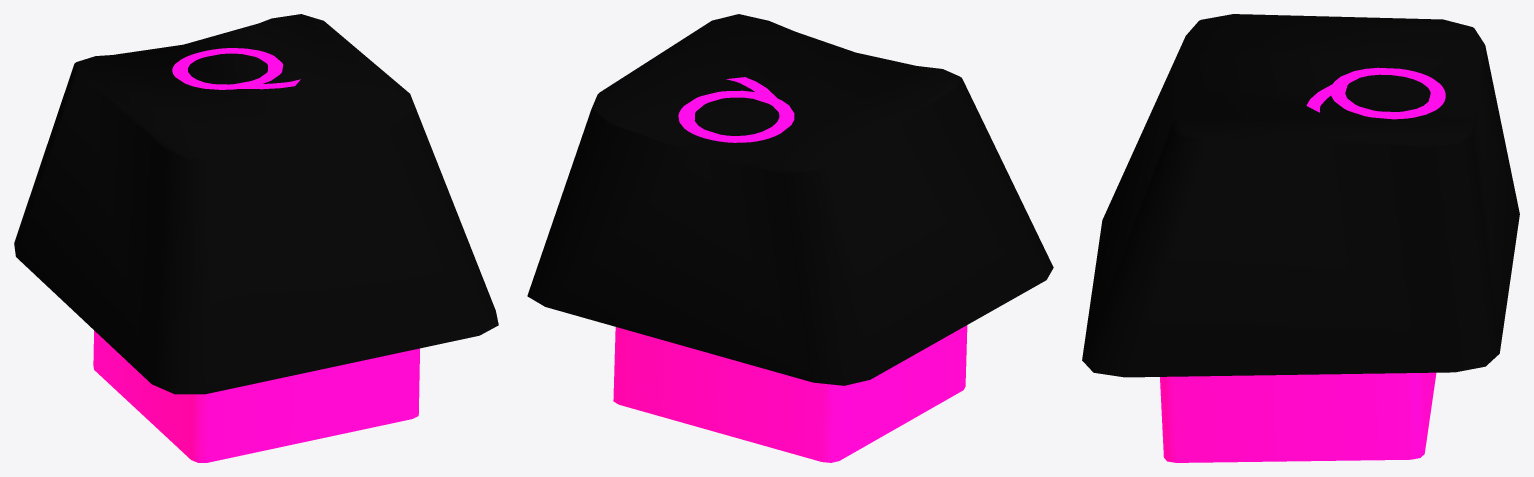
File: q-JMf_h7st.glb
3 renders of one model, left to right at view 1: azimuth 30°, elevation 25°; view 2: azimuth 150°, elevation 25°; view 3: azimuth 270°, elevation 25°, orthographic. The views are drawn at different scales.
Parts seen in each view (by area): view 1: StudyShelf_1053; view 2: StudyShelf_1053; view 3: StudyShelf_1053.
Boxes of the visible parts, x1=… form: StudyShelf_1053: x1=14, y1=14, x2=498, y2=462; StudyShelf_1053: x1=527, y1=14, x2=1053, y2=462; StudyShelf_1053: x1=1082, y1=14, x2=1519, y2=462.
Size of the model in its own units: 4.35 by 3.62 by 4.35.
